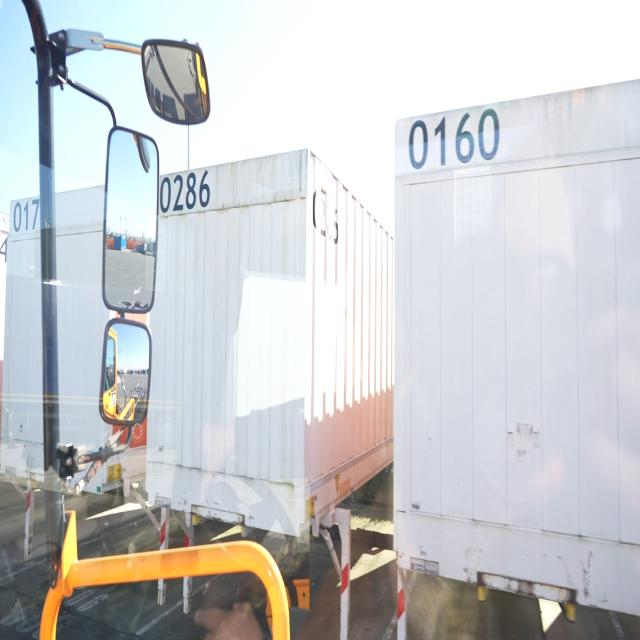Code: (401, 100, 504, 176), (159, 167, 213, 216)
